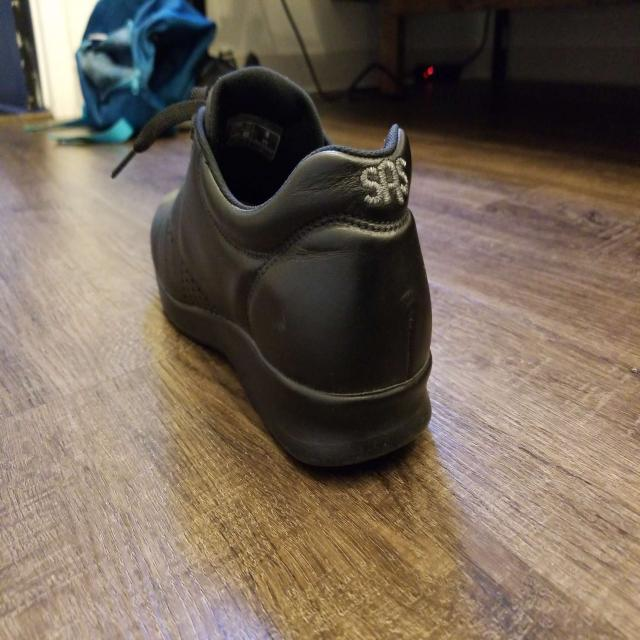shoes: (150, 63, 432, 476)
